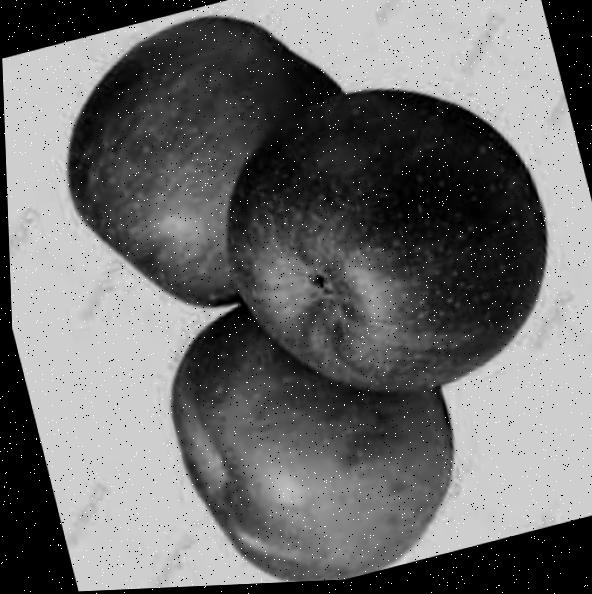HEALTHY: (248, 36, 578, 443), (115, 308, 419, 589), (27, 10, 279, 328)
